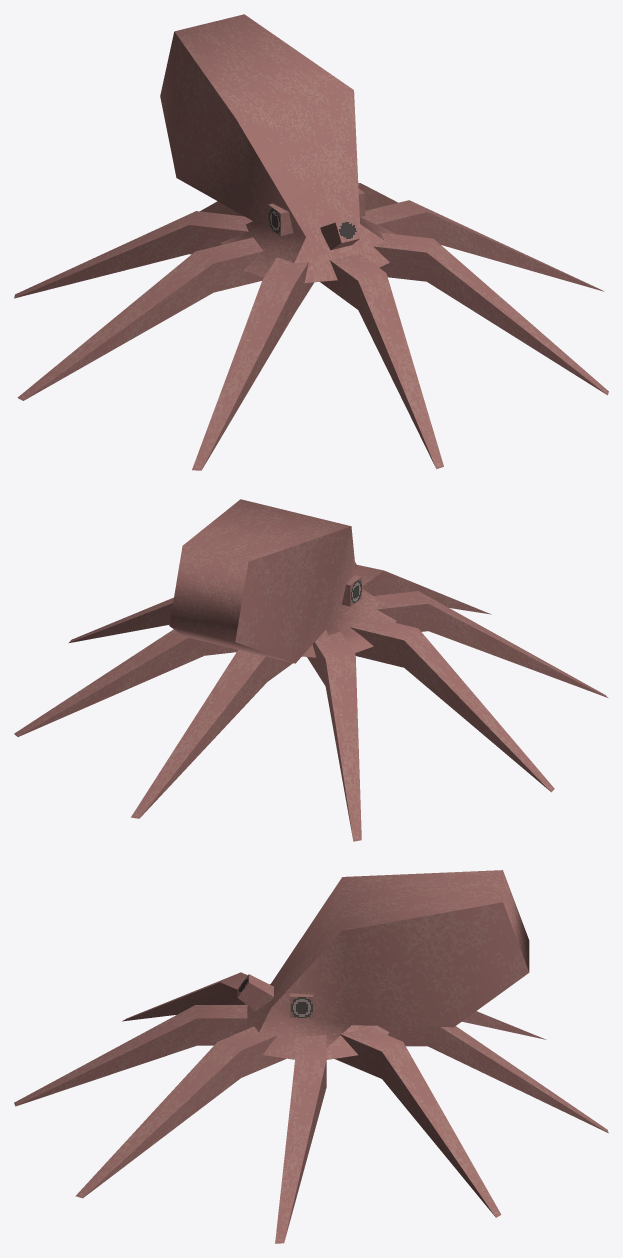
The model's file is 0597_Giant_Octopus.glb.
3 views of the same model, one above another, from view 1: azimuth 30°, elevation 25°; view 2: azimuth 150°, elevation 25°; view 3: azimuth 270°, elevation 25° (orthographic). The views are drawn at different scales.
Visible parts, largest first — view 1: part_0; view 2: part_0; view 3: part_0.
Boxes of the visible parts, x1,y1,x2,y2 form: part_0: [14, 14, 608, 470]; part_0: [14, 499, 607, 841]; part_0: [14, 870, 608, 1243].
Bounding box in the file's own units: 51.9 × 22.33 × 51.9.
Materials: 1 (1 with a texture image).
